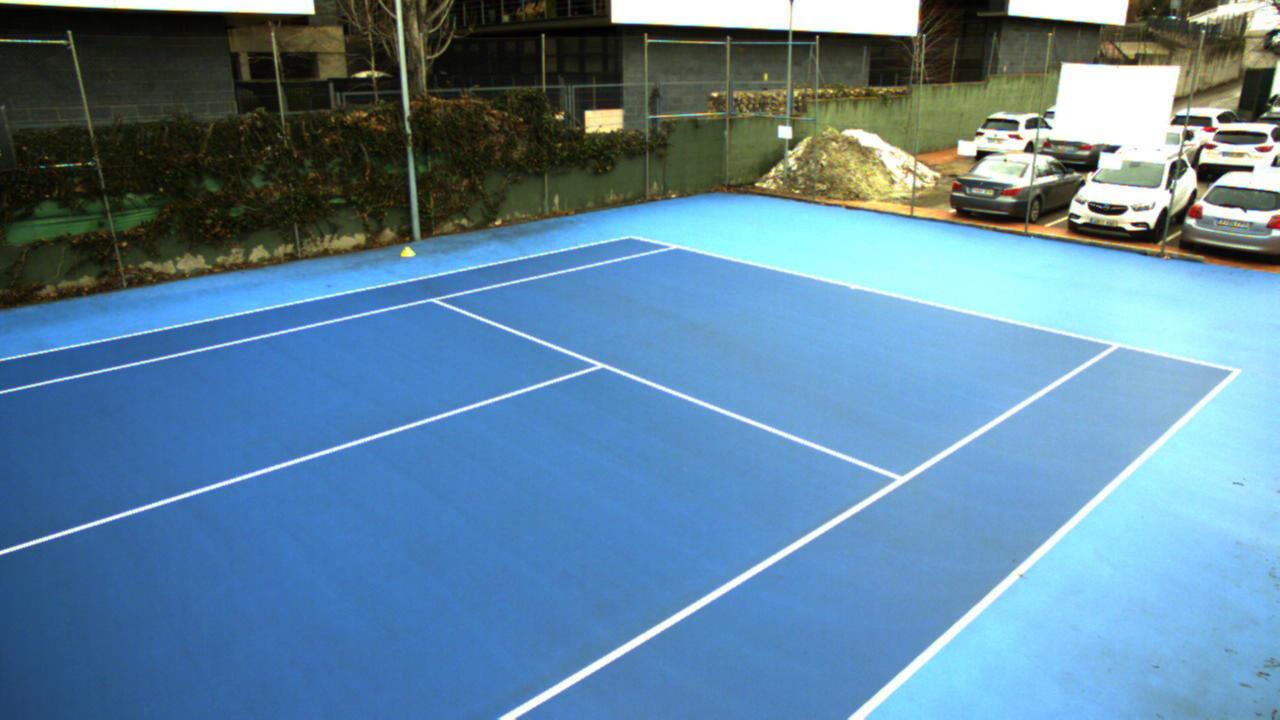cancha_tenis: (0, 243, 1120, 720)
point_f1: (659, 239, 686, 260)
point_f2: (1101, 333, 1131, 359)
point_fc1: (844, 282, 861, 299)
point_i1: (422, 286, 451, 311)
point_i2: (876, 464, 914, 498)
point_ic1: (581, 349, 619, 380)
